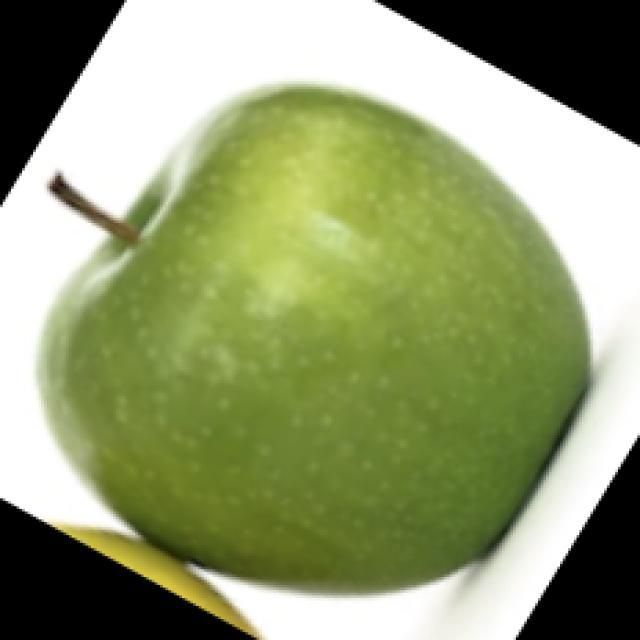Fresh Apple: (36, 81, 594, 599)
